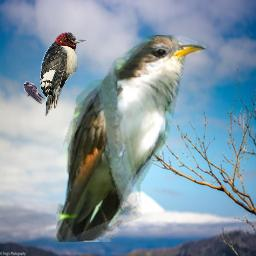Cuckoo: (56, 35, 206, 242)
Swallow: (23, 81, 45, 104)
Woodpecker: (40, 32, 86, 116)
